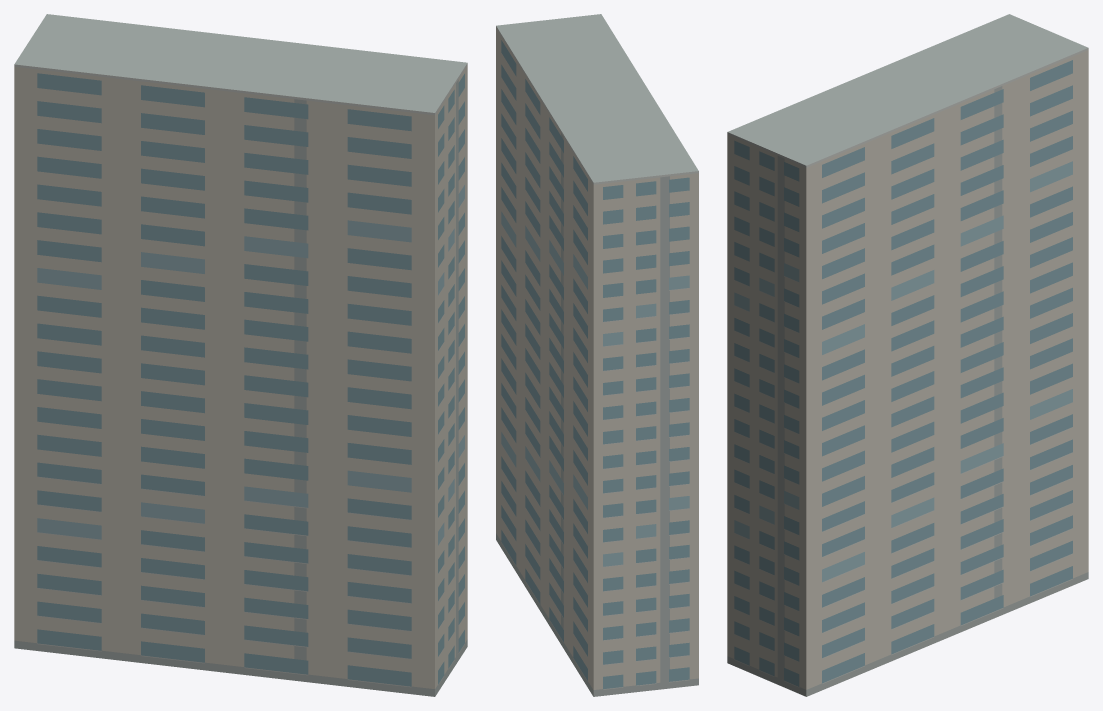
File: residential-d03620fc-ff18-482e-8ebe-23b5825643ea.glb
The picture shows the model from 3 angles, left to right: view 1: azimuth 30°, elevation 25°; view 2: azimuth 150°, elevation 25°; view 3: azimuth 270°, elevation 25°; orthographic projection. The views are drawn at different scales.
Parts seen in each view (by area): view 1: residential-d03620fc-ff18-482e-8ebe-23b5825643ea.tmp; view 2: residential-d03620fc-ff18-482e-8ebe-23b5825643ea.tmp; view 3: residential-d03620fc-ff18-482e-8ebe-23b5825643ea.tmp.
Part boxes in pixels (box(x1,y1,x2,y2)): residential-d03620fc-ff18-482e-8ebe-23b5825643ea.tmp: box(14, 14, 467, 696); residential-d03620fc-ff18-482e-8ebe-23b5825643ea.tmp: box(496, 14, 698, 696); residential-d03620fc-ff18-482e-8ebe-23b5825643ea.tmp: box(727, 14, 1088, 696).
Bounding box in the file's own units: 37.39 × 61 × 37.6.
